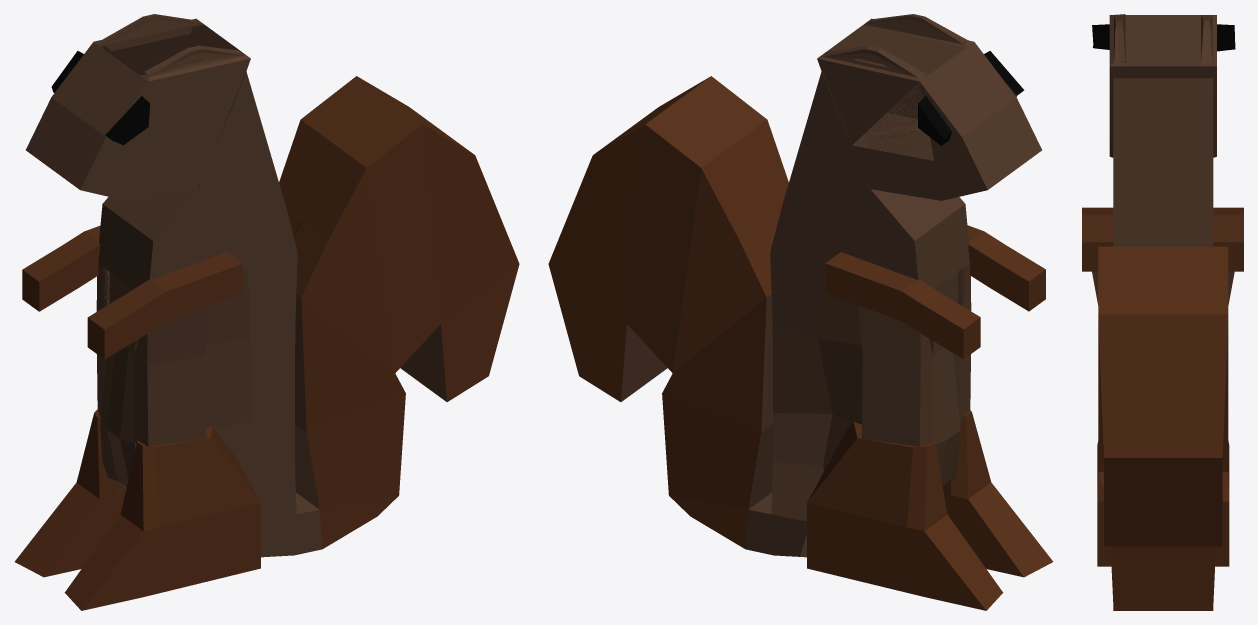
Rendered from ArdillaFixCaras.fbx.
3 views of the same model, side by side, from view 1: azimuth 30°, elevation 25°; view 2: azimuth 150°, elevation 25°; view 3: azimuth 270°, elevation 25° (orthographic).
Parts seen in each view (by area): view 1: Plane, Patas, Mano2, Mano1; view 2: Plane, Patas, Mano1, Mano2; view 3: Plane, Patas, Mano2, Mano1.
Part boxes in pixels (x1,y1,x2,y2): Plane: (26,14,519,557); Patas: (14,409,260,610); Mano2: (87,252,242,359); Mano1: (22,225,100,311); Plane: (548,14,1041,557); Patas: (807,410,1053,610); Mano1: (825,252,980,359); Mano2: (967,225,1045,311); Plane: (1092,14,1235,610); Patas: (1097,441,1229,566); Mano2: (1082,207,1113,271); Mano1: (1213,207,1243,271).
Bounding box in the file's own units: 325 × 372 × 105.
